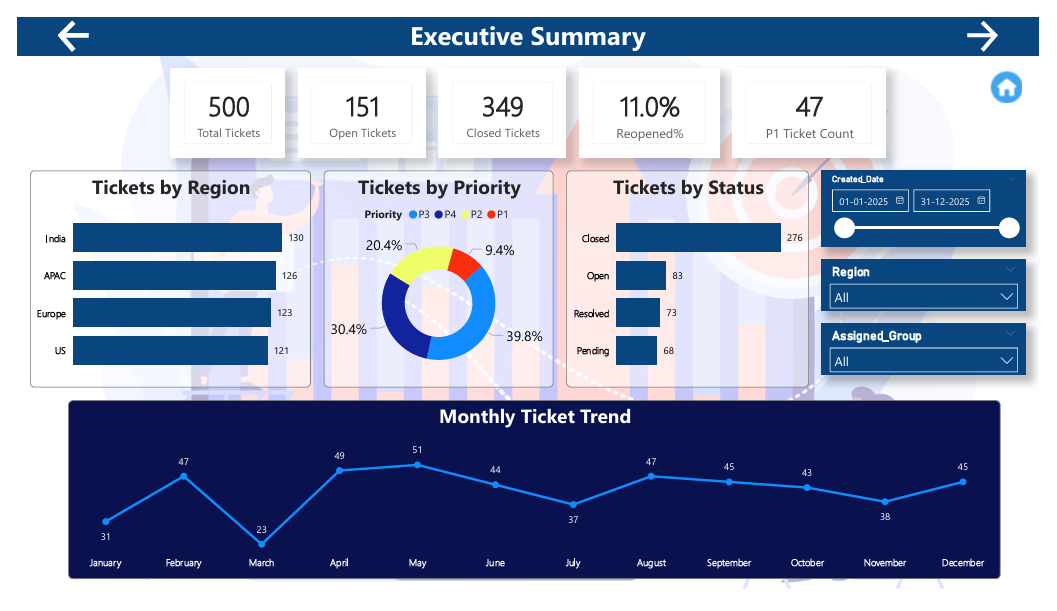

The page's visual inventory and layout, read from the dashboard file:
{"tool":"powerbi","page":{"name":"Executive Summary","canvas":[1280,720],"ordinal":1},"visuals":[{"type":"cardVisual","fields":{"Data":["Incident_Data_Set.Total Tickets"]},"box":[192,64,144,112],"z":0},{"type":"cardVisual","fields":{"Data":["Incident_Data_Set.Open Tickets"]},"box":[352,64,160,112],"z":1000},{"type":"cardVisual","fields":{"Data":["Incident_Data_Set.Closed Tickets"]},"box":[528,64,160,112],"z":2000},{"type":"textbox","title":"Executive Summary","box":[0,0,1280,48],"z":3000},{"type":"actionButton","box":[48,0,96,48],"z":4000},{"type":"actionButton","box":[1184,0,96,48],"z":5000},{"type":"cardVisual","fields":{"Data":["Incident_Data_Set.Reopened%"]},"box":[704,64,176,112],"z":6000},{"type":"cardVisual","fields":{"Data":["Incident_Data_Set.P1 Ticket Count"]},"box":[896,64,192,112],"z":7000},{"type":"lineChart","title":"Monthly Ticket Trend","fields":{"Category":["Incident_Data_Set.Created_Date.Variation.Date Hierarchy.Month","Incident_Data_Set.Created_Date.Variation.Date Hierarchy.Day"],"Y":["Incident_Data_Set.Total Tickets"]},"box":[64,480,1168,224],"z":8000},{"type":"donutChart","title":"Tickets by Priority","fields":{"Category":["Incident_Data_Set.Priority"],"Y":["Incident_Data_Set.Total Tickets"]},"box":[384,192,288,272],"z":9000},{"type":"clusteredBarChart","title":"Tickets by Status","fields":{"Category":["Incident_Data_Set.Status"],"Y":["Incident_Data_Set.Total Tickets"]},"box":[688,192,304,272],"z":10000},{"type":"clusteredBarChart","title":"Tickets by Region","fields":{"Category":["Incident_Data_Set.Region"],"Y":["Incident_Data_Set.Total Tickets"]},"box":[16,192,352,272],"z":11000},{"type":"slicer","fields":{"Values":["Incident_Data_Set.Created_Date"]},"box":[1008,192,256,96],"z":12000},{"type":"slicer","fields":{"Values":["Incident_Data_Set.Region"]},"box":[1008,304,256,64],"z":15000},{"type":"slicer","fields":{"Values":["Incident_Data_Set.Assigned_Group"]},"box":[1008,384,256,64],"z":16000},{"type":"actionButton","box":[1216,64,48,48],"z":16001}]}

Visuals, with their boxes in screenshot pixels (x1, y1, x2, y2), scaled from the page's 1280x720 canvas onto the 1057x611 screenshot:
cardVisual - Incident_Data_Set.Total Tickets: {"x1": 159, "y1": 54, "x2": 277, "y2": 149}
cardVisual - Incident_Data_Set.Open Tickets: {"x1": 291, "y1": 54, "x2": 423, "y2": 149}
cardVisual - Incident_Data_Set.Closed Tickets: {"x1": 436, "y1": 54, "x2": 568, "y2": 149}
"Executive Summary" textbox: {"x1": 0, "y1": 0, "x2": 1056, "y2": 41}
actionButton: {"x1": 40, "y1": 0, "x2": 119, "y2": 41}
actionButton: {"x1": 978, "y1": 0, "x2": 1056, "y2": 41}
cardVisual - Incident_Data_Set.Reopened%: {"x1": 581, "y1": 54, "x2": 727, "y2": 149}
cardVisual - Incident_Data_Set.P1 Ticket Count: {"x1": 740, "y1": 54, "x2": 898, "y2": 149}
"Monthly Ticket Trend" lineChart: {"x1": 53, "y1": 407, "x2": 1017, "y2": 597}
"Tickets by Priority" donutChart: {"x1": 317, "y1": 163, "x2": 555, "y2": 394}
"Tickets by Status" clusteredBarChart: {"x1": 568, "y1": 163, "x2": 819, "y2": 394}
"Tickets by Region" clusteredBarChart: {"x1": 13, "y1": 163, "x2": 304, "y2": 394}
slicer - Incident_Data_Set.Created_Date: {"x1": 832, "y1": 163, "x2": 1044, "y2": 244}
slicer - Incident_Data_Set.Region: {"x1": 832, "y1": 258, "x2": 1044, "y2": 312}
slicer - Incident_Data_Set.Assigned_Group: {"x1": 832, "y1": 326, "x2": 1044, "y2": 380}
actionButton: {"x1": 1004, "y1": 54, "x2": 1044, "y2": 95}
